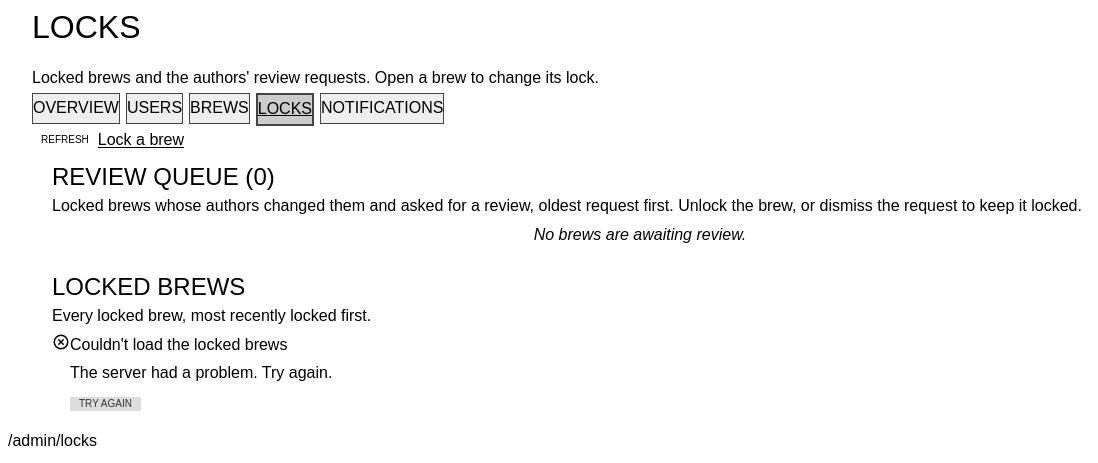
access › shows a failed load in place, with Try again
Expected: the message with test id "admin-error" shows "Couldn't load the locked brews", [52,332,332,411]
Expected: the text "No brews are awaiting review." is shown, [534,226,746,243]
Click the button "Try again".
click(106, 404)  # box [70,397,141,411]
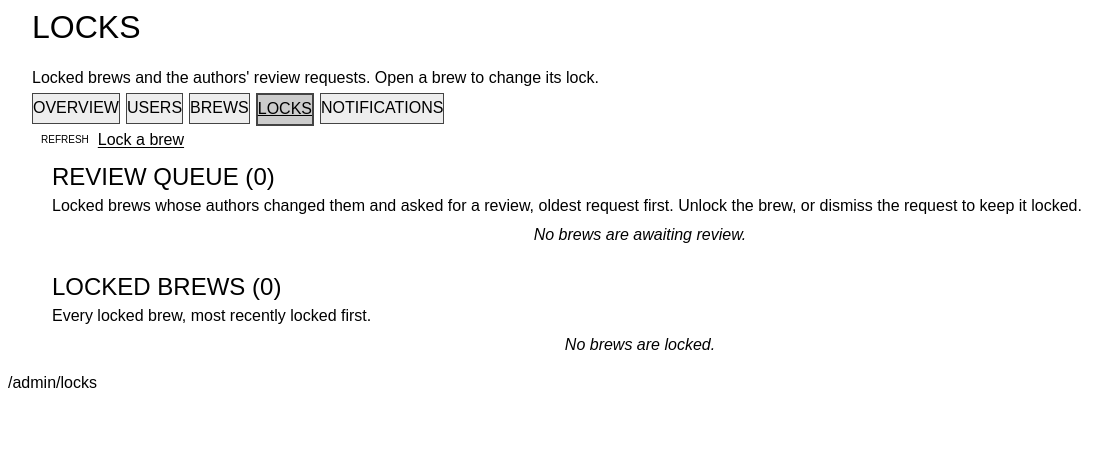
Expected: the text "No brews are locked." is shown, [565,336,715,352]
Expected: the message with test id "admin-error" is gone
